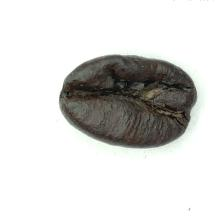NG: (73, 56, 172, 120)
